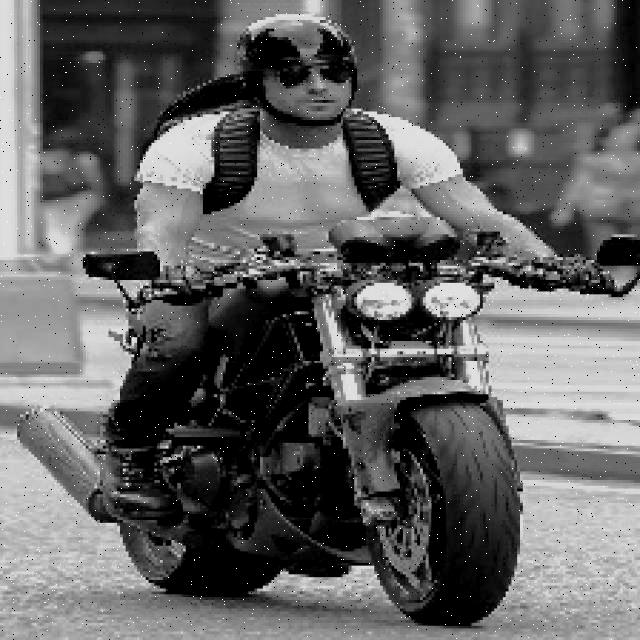Bike: (63, 231, 615, 631)
